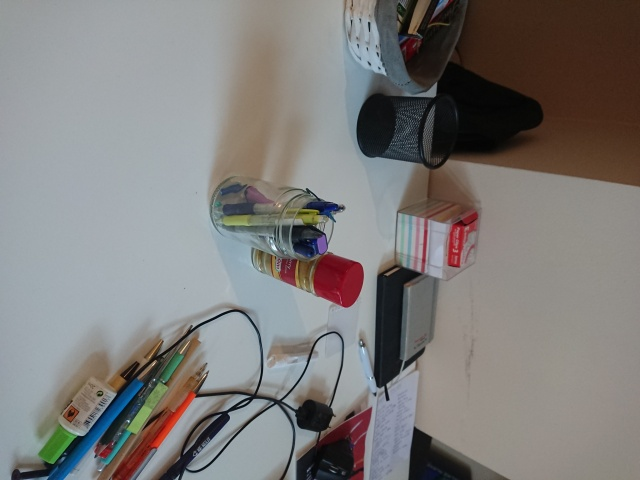Kotanyi Curry Spices Mix 70g: (249, 226, 366, 310)
